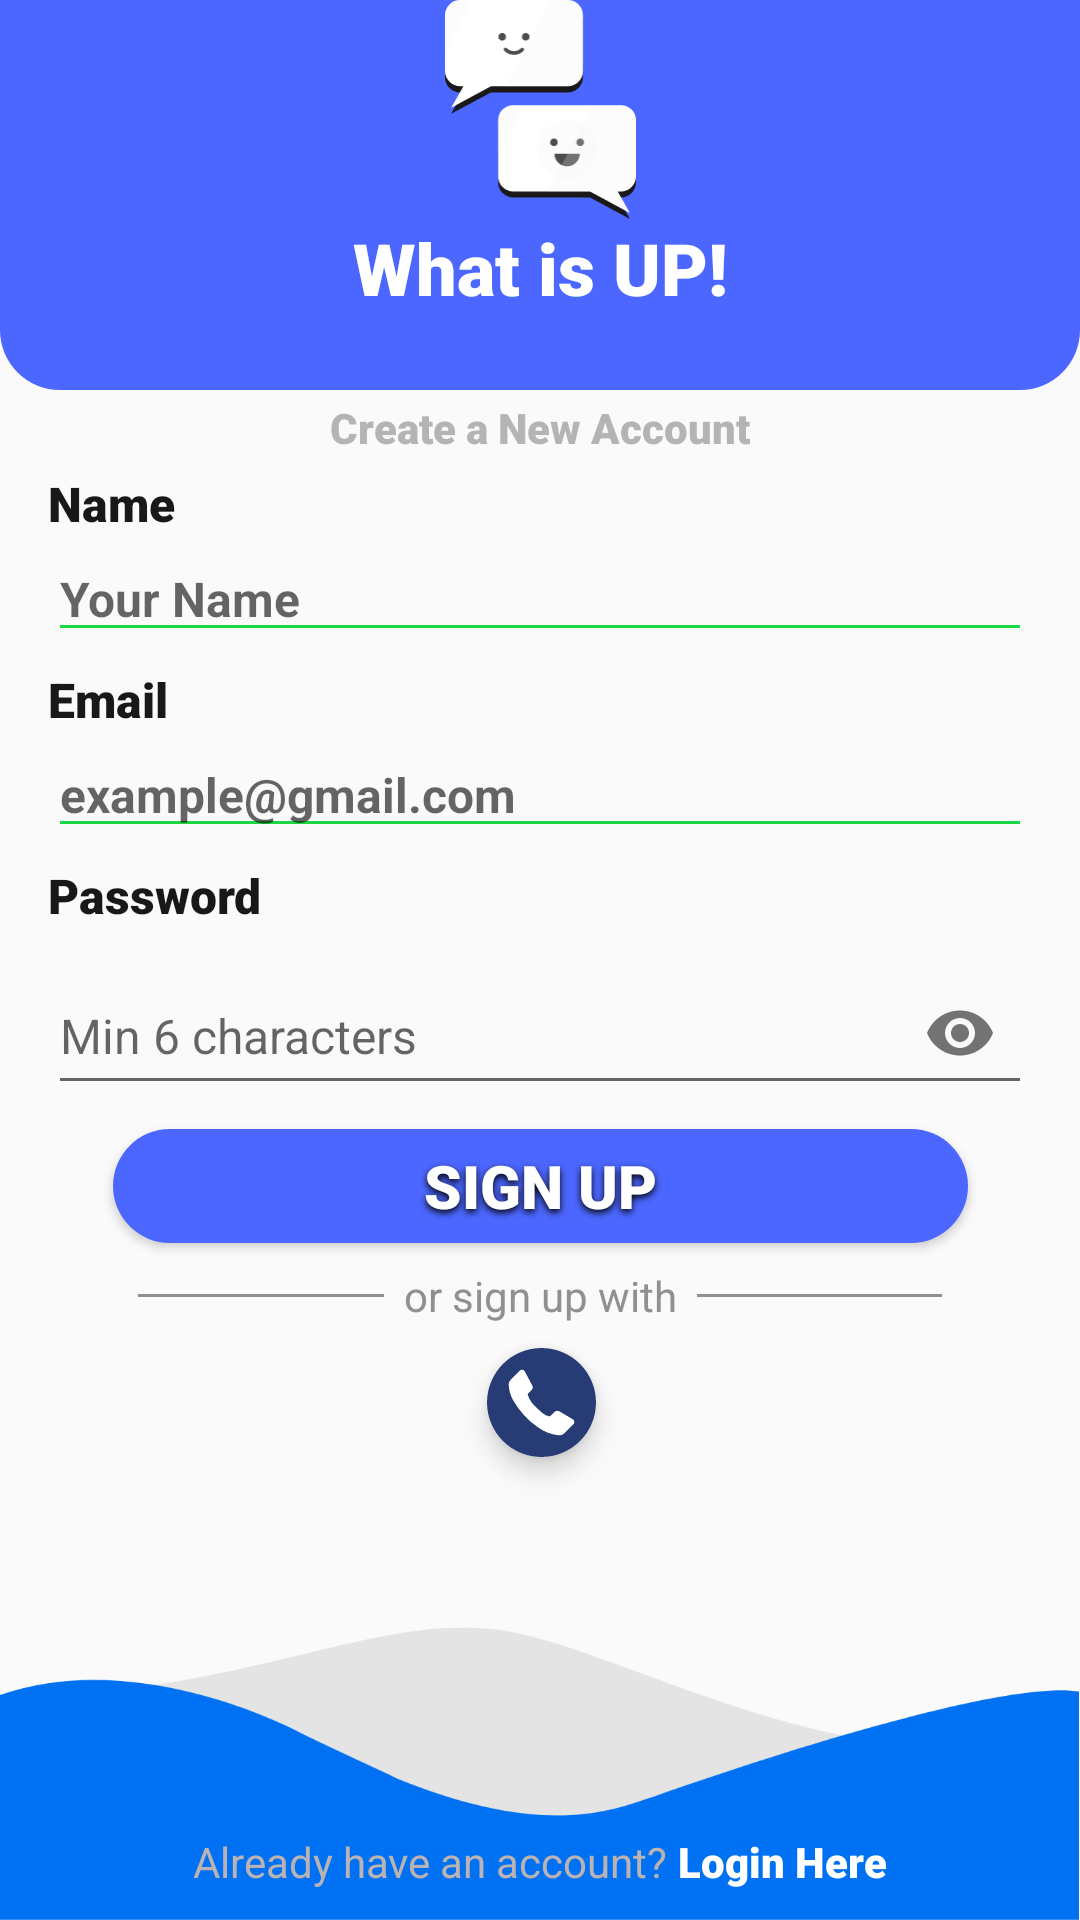

Icons on this 1080 × 1920 Android screen, each with its box as (x1, y1, x2, y2):
phone: (487, 1348, 596, 1457)
